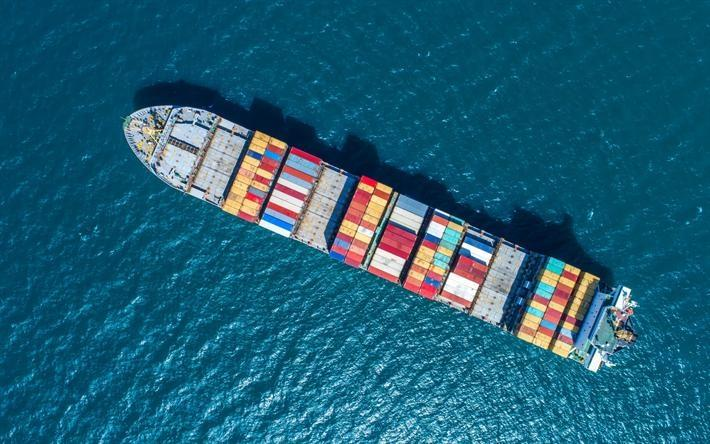Boat: (119, 100, 640, 376)
